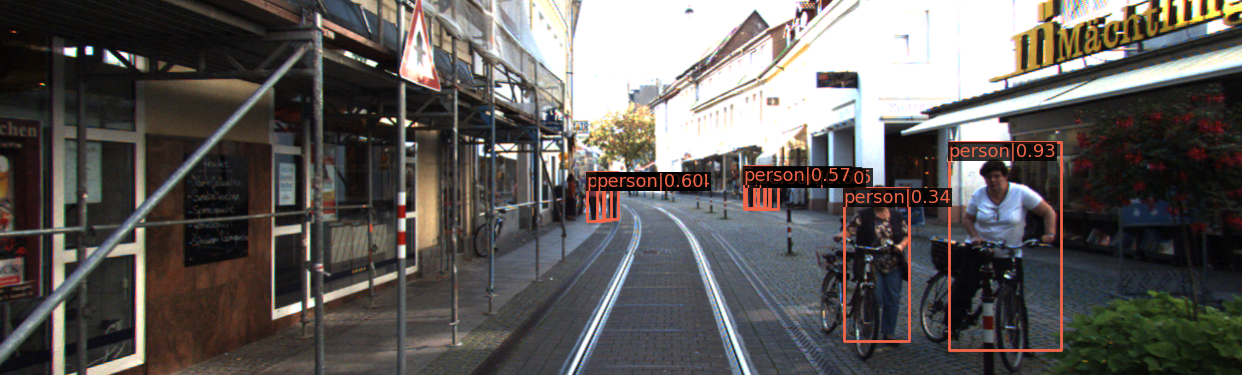person: (950, 155, 1065, 369), (838, 183, 920, 351)
